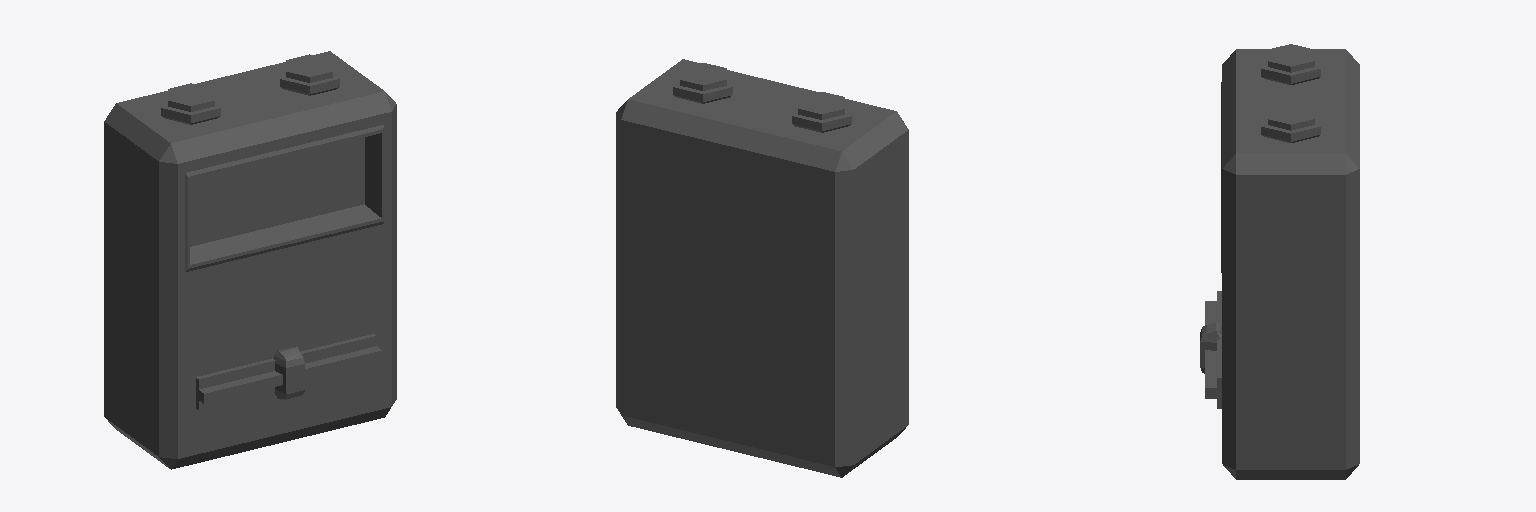
The model's file is operator.obj.
3 views of the same model, side by side, from view 1: azimuth 30°, elevation 25°; view 2: azimuth 150°, elevation 25°; view 3: azimuth 270°, elevation 25° (orthographic).
Parts seen in each view (by area): view 1: shell, rail, input, output, slider; view 2: shell, input, output; view 3: shell, output, input, rail, slider.
Boxes of the visible parts, x1=… form: shell: x1=104, y1=51, x2=396, y2=469; rail: x1=196, y1=334, x2=381, y2=409; input: x1=161, y1=83, x2=220, y2=124; output: x1=280, y1=54, x2=339, y2=95; slider: x1=273, y1=347, x2=304, y2=399; shell: x1=616, y1=59, x2=908, y2=477; input: x1=792, y1=92, x2=851, y2=132; output: x1=673, y1=63, x2=732, y2=103; shell: x1=1221, y1=49, x2=1359, y2=479; output: x1=1261, y1=102, x2=1320, y2=142; input: x1=1261, y1=44, x2=1320, y2=84; rail: x1=1205, y1=291, x2=1221, y2=408; slider: x1=1200, y1=323, x2=1221, y2=373.
Size of the model in its own units: 0.08 by 0.1104 by 0.0464.